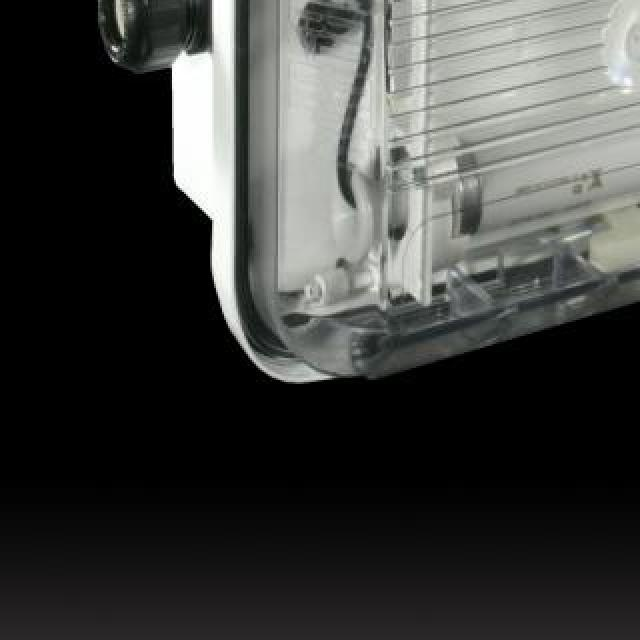fluorescent tube: (416, 0, 640, 270)
